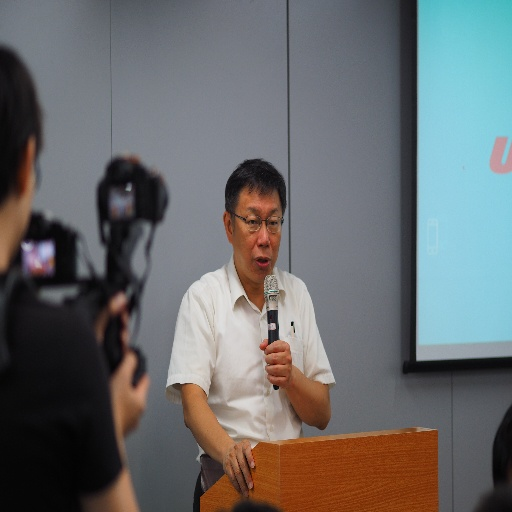hand: (108, 347, 151, 438), (92, 289, 128, 352), (227, 437, 260, 498), (259, 337, 292, 391)
